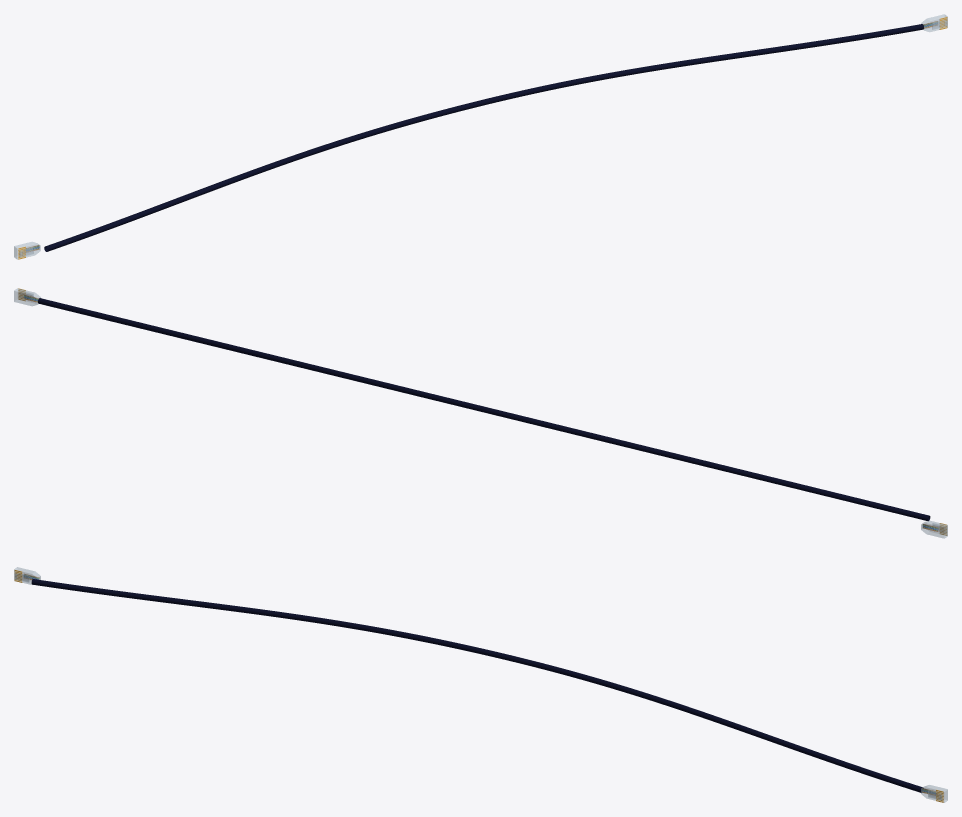
The model's file is RJ45_Cable.fbx.
3 views of the same model, one above another, from view 1: azimuth 30°, elevation 25°; view 2: azimuth 150°, elevation 25°; view 3: azimuth 330°, elevation 25° (orthographic).
Visible parts, largest first — view 1: RJ45_Cable_Assembly; view 2: RJ45_Cable_Assembly; view 3: RJ45_Cable_Assembly.
Boxes of the visible parts, x1=… form: RJ45_Cable_Assembly: x1=44, y1=24, x2=923, y2=251; RJ45_Cable_Assembly: x1=38, y1=298, x2=930, y2=520; RJ45_Cable_Assembly: x1=31, y1=579, x2=923, y2=792.
Bounding box in the file's own units: 0.9969 × 0.032 × 0.0432.
Materials: 11 (7 with a texture image).
